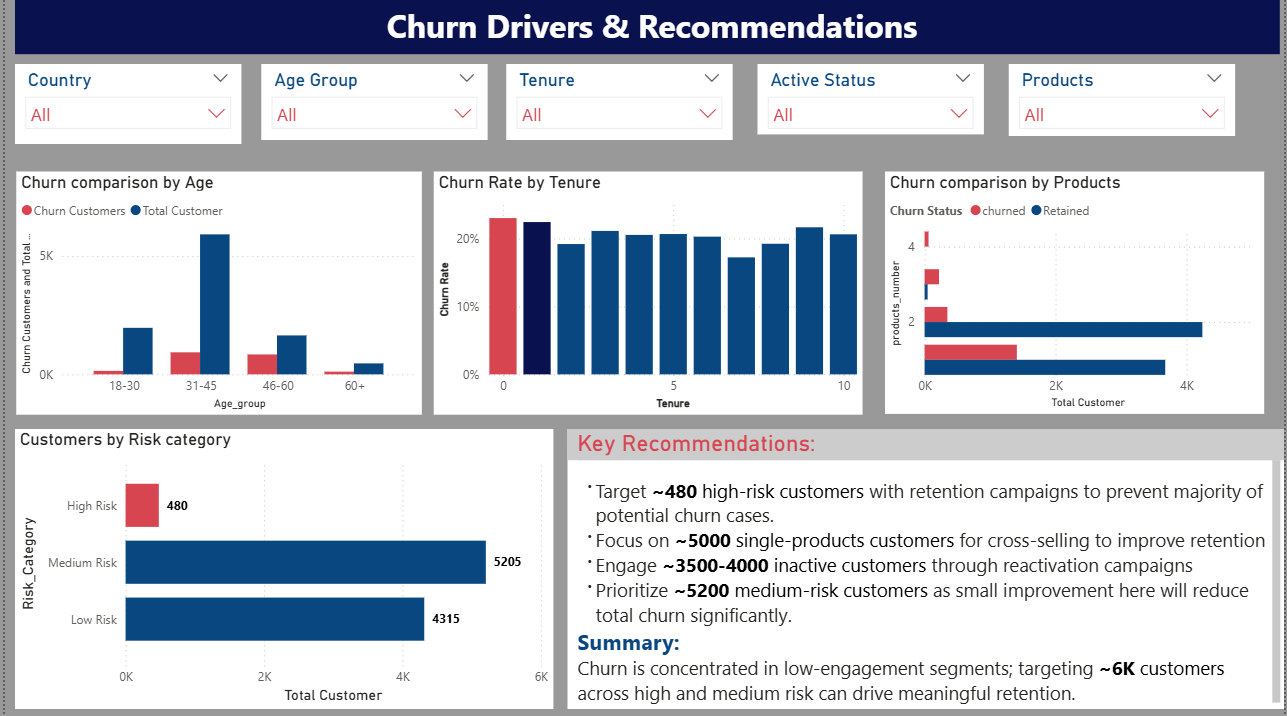

Layout of this report page (visuals, bound fields, positions):
{"tool":"powerbi","page":{"name":"Page 2","canvas":[1280,720],"ordinal":1},"visuals":[{"type":"textbox","box":[9.6,0,1265.1,55.1],"z":0},{"type":"clusteredColumnChart","title":"Churn comparison by Age","fields":{"Y":["Bank_Churn_Customer_Analysis.Churn Customers","Bank_Churn_Customer_Analysis.Total Customer"],"Category":["Bank_Churn_Customer_Analysis.Age_group"]},"box":[11.4,172.9,405.7,242.9],"z":1000},{"type":"clusteredBarChart","title":"Churn comparison by Products","fields":{"Category":["Bank_Churn_Customer_Analysis.products_number"],"Series":["Bank_Churn_Customer_Analysis.Churn Status"],"Y":["Bank_Churn_Customer_Analysis.Total Customer"]},"box":[880.3,172.5,379.2,242.4],"z":2000},{"type":"slicer","fields":{"Values":["Bank_Churn_Customer_Analysis.Age_group"]},"box":[256.3,64.8,226,75.8],"z":3000},{"type":"slicer","fields":{"Values":["Bank_Churn_Customer_Analysis.active Status"]},"box":[752.5,64.8,226,70.3],"z":5000},{"type":"slicer","fields":{"Values":["Bank_Churn_Customer_Analysis.products_number"]},"box":[1003.3,64.8,226,71.7],"z":6000},{"type":"clusteredColumnChart","title":"Churn Rate by Tenure","fields":{"Category":["Bank_Churn_Customer_Analysis.tenure"],"Y":["Bank_Churn_Customer_Analysis.Churn Rate"]},"box":[428.6,172.9,428.6,242.9],"z":7000},{"type":"slicer","fields":{"Values":["Bank_Churn_Customer_Analysis.country"]},"box":[9.6,64.8,226,79.9],"z":8000},{"type":"clusteredBarChart","title":"Customers by Risk category","fields":{"Y":["Bank_Churn_Customer_Analysis.Total Customer"],"Category":["Risk.Risk_Category"]},"box":[9.5,429.9,538.1,279.8],"z":9000},{"type":"textbox","title":"Key Recommendations:","box":[562.4,429.9,717.9,279.8],"z":10000},{"type":"slicer","fields":{"Values":["Bank_Churn_Customer_Analysis.tenure"]},"box":[505,64.8,226.2,75.8],"z":10001}]}

Visuals, with their boxes in screenshot pixels (x1, y1, x2, y2), scaled from the page's 1280x720 canvas onto the 1287x716 screenshot:
textbox: bbox=(10, 0, 1282, 55)
"Churn comparison by Age" clusteredColumnChart: bbox=(11, 172, 419, 413)
"Churn comparison by Products" clusteredBarChart: bbox=(885, 172, 1266, 413)
slicer - Bank_Churn_Customer_Analysis.Age_group: bbox=(258, 64, 485, 140)
slicer - Bank_Churn_Customer_Analysis.active Status: bbox=(757, 64, 984, 134)
slicer - Bank_Churn_Customer_Analysis.products_number: bbox=(1009, 64, 1236, 136)
"Churn Rate by Tenure" clusteredColumnChart: bbox=(431, 172, 862, 413)
slicer - Bank_Churn_Customer_Analysis.country: bbox=(10, 64, 237, 144)
"Customers by Risk category" clusteredBarChart: bbox=(10, 428, 551, 706)
"Key Recommendations:" textbox: bbox=(565, 428, 1286, 706)
slicer - Bank_Churn_Customer_Analysis.tenure: bbox=(508, 64, 735, 140)
